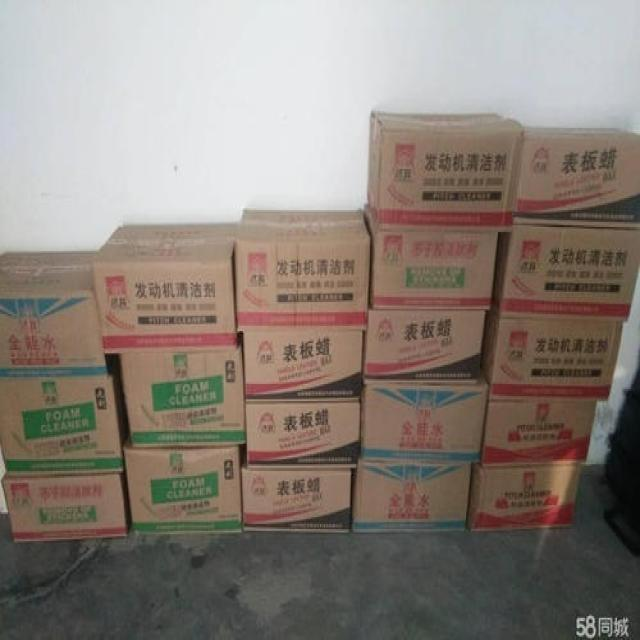box: (89, 223, 239, 355), (367, 111, 526, 231), (234, 211, 371, 329), (492, 220, 639, 322), (361, 205, 496, 311), (0, 249, 106, 379), (482, 308, 625, 403), (119, 349, 246, 449), (513, 126, 639, 225), (125, 433, 243, 533), (1, 378, 123, 470), (359, 381, 489, 463), (240, 449, 352, 535), (364, 309, 486, 386), (243, 331, 365, 403), (351, 461, 472, 533), (1, 472, 126, 541), (480, 393, 597, 465), (466, 457, 582, 529), (246, 400, 360, 469)
